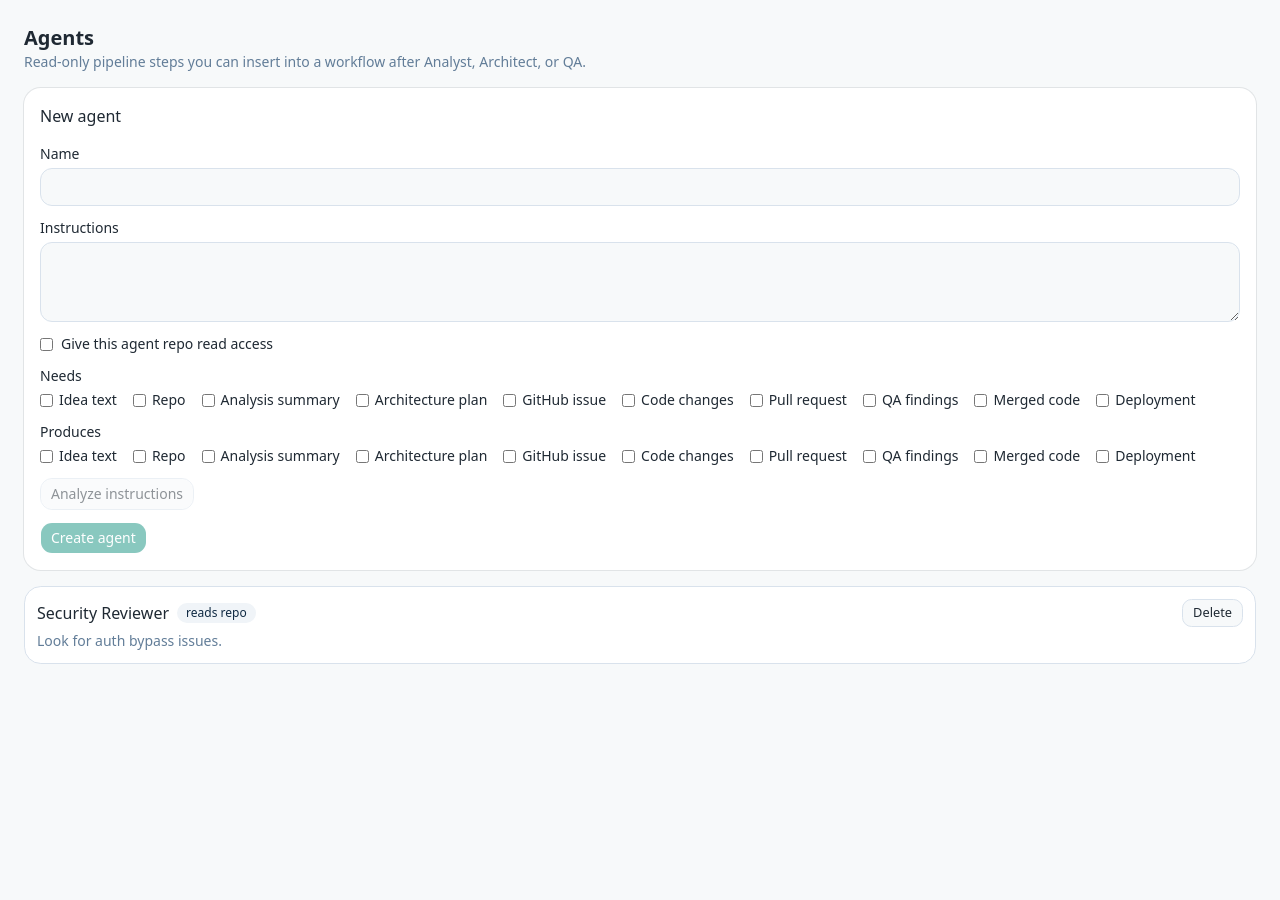
AgentsView › deletes an agent when its delete button is clicked
This screenshot has width=1280, height=900.
Expected: the text "Security Reviewer" is shown, [37,601,169,625]
Click the button "Delete" at point(1213, 613), box [1182,599,1243,627]
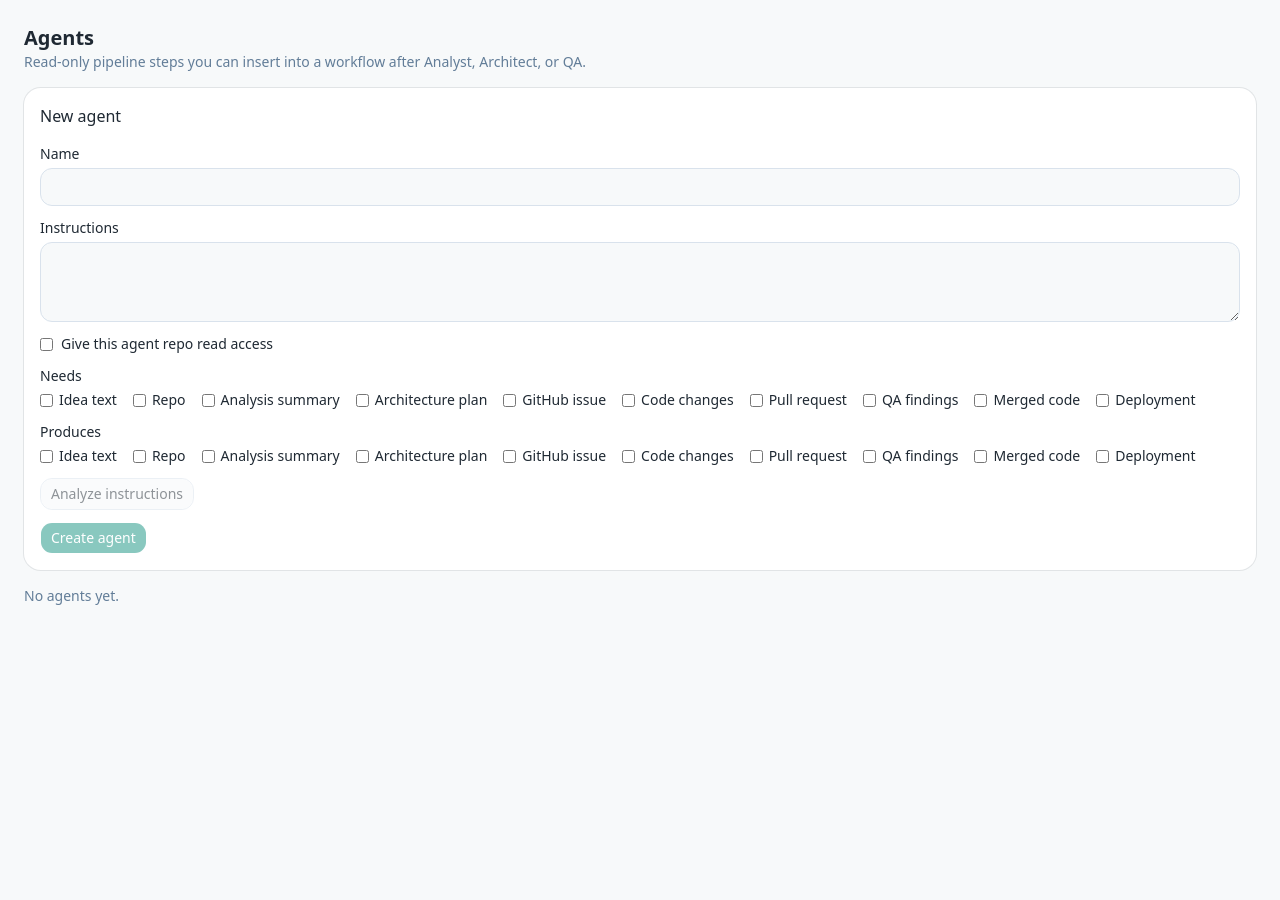
Result: the text "Security Reviewer" is gone
